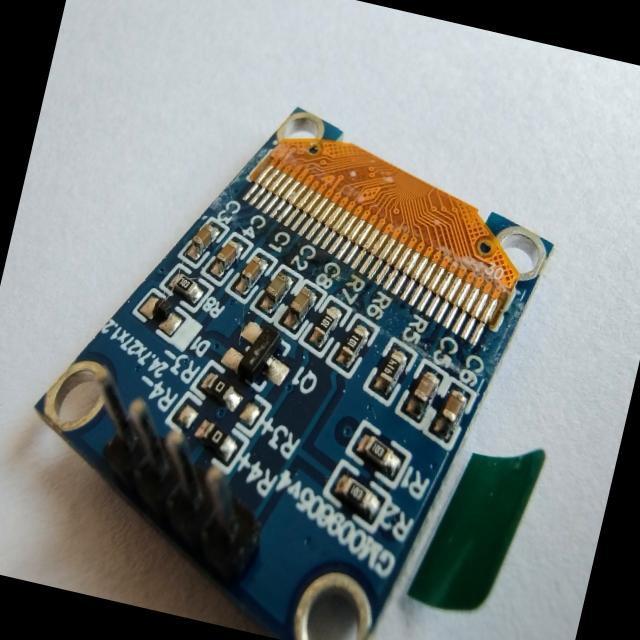oled: (0, 44, 625, 640)
